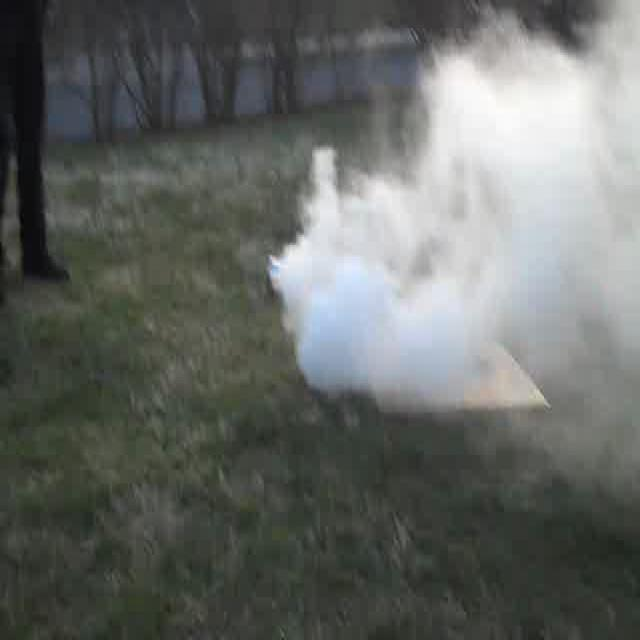Smoke: (303, 172, 625, 386)
